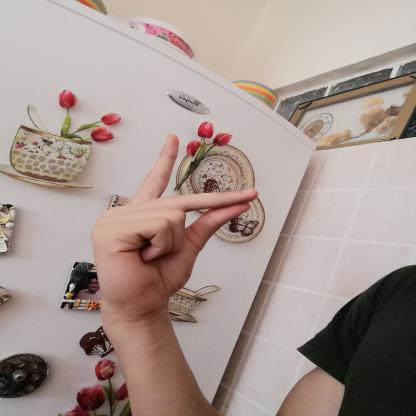TAA: (77, 125, 266, 324)
